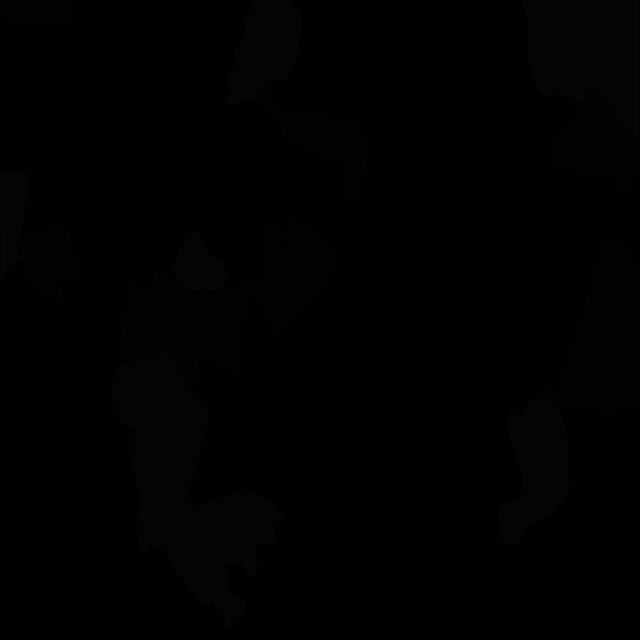cardboard: (117, 217, 340, 395), (534, 235, 640, 419), (259, 87, 368, 207), (550, 90, 640, 198), (18, 221, 98, 307), (0, 0, 76, 29)
soft_plastic: (112, 351, 285, 628), (522, 0, 640, 141), (498, 394, 570, 547), (225, 0, 302, 103), (173, 228, 226, 294), (0, 170, 29, 282)
